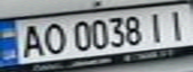0: (69, 18, 93, 52), (90, 16, 109, 51)
3: (106, 14, 127, 48)
8: (124, 11, 148, 46)
A: (15, 21, 48, 59)
I: (163, 7, 193, 40), (142, 9, 169, 43)
O: (36, 20, 69, 55)
